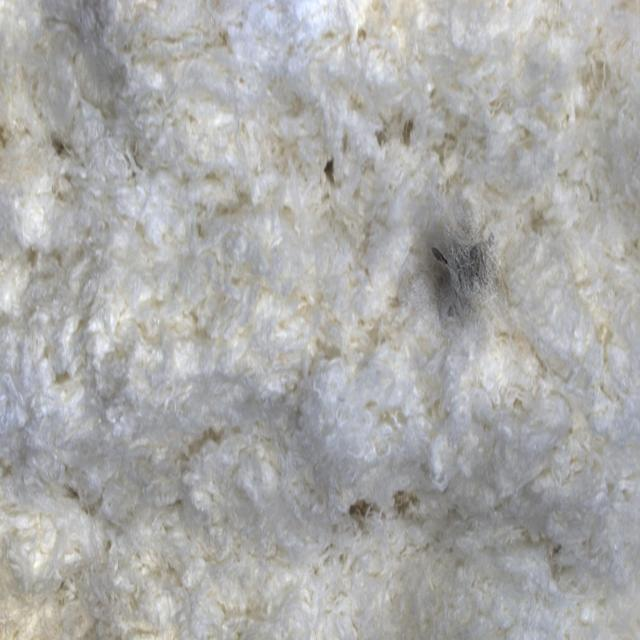dust: (341, 157, 543, 363)
